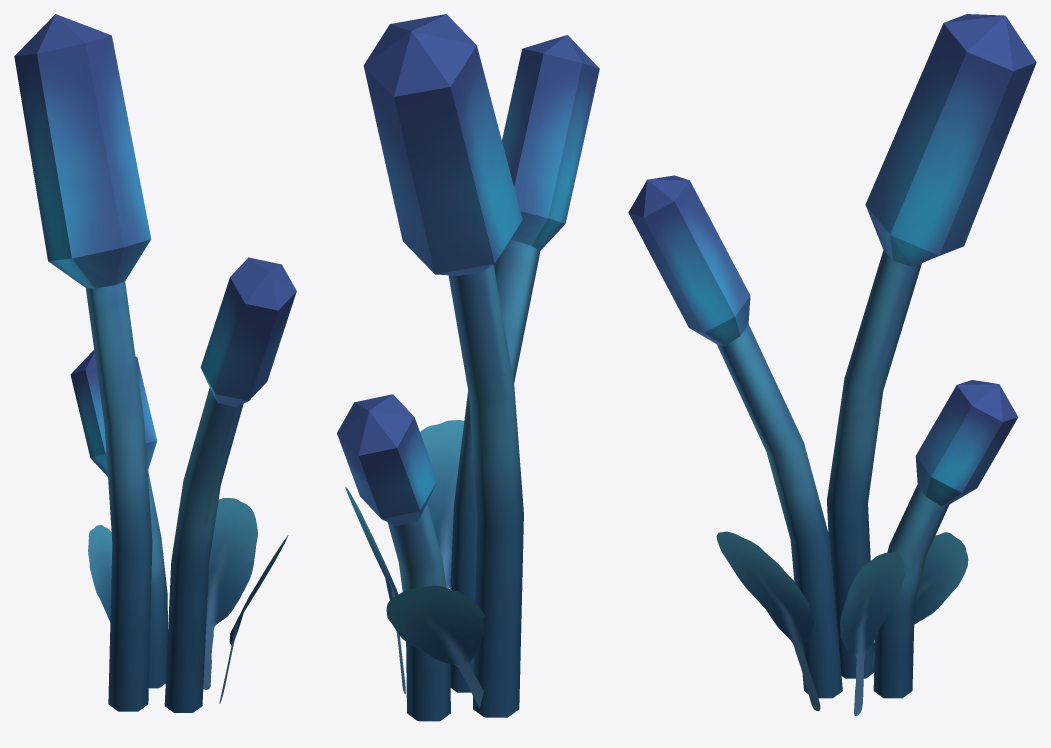
File: flower_14.FBX
3 views of the same model, side by side, from view 1: azimuth 30°, elevation 25°; view 2: azimuth 150°, elevation 25°; view 3: azimuth 270°, elevation 25° (orthographic). The views are drawn at different scales.
Parts seen in each view (by area): view 1: Cylinder005; view 2: Cylinder005; view 3: Cylinder005.
Part boxes in pixels (x1=…): Cylinder005: x1=14, y1=14, x2=296, y2=712; Cylinder005: x1=337, y1=14, x2=599, y2=721; Cylinder005: x1=628, y1=14, x2=1036, y2=715.
Bounding box in the file's own units: 0.2773 × 0.9449 × 0.5182.
